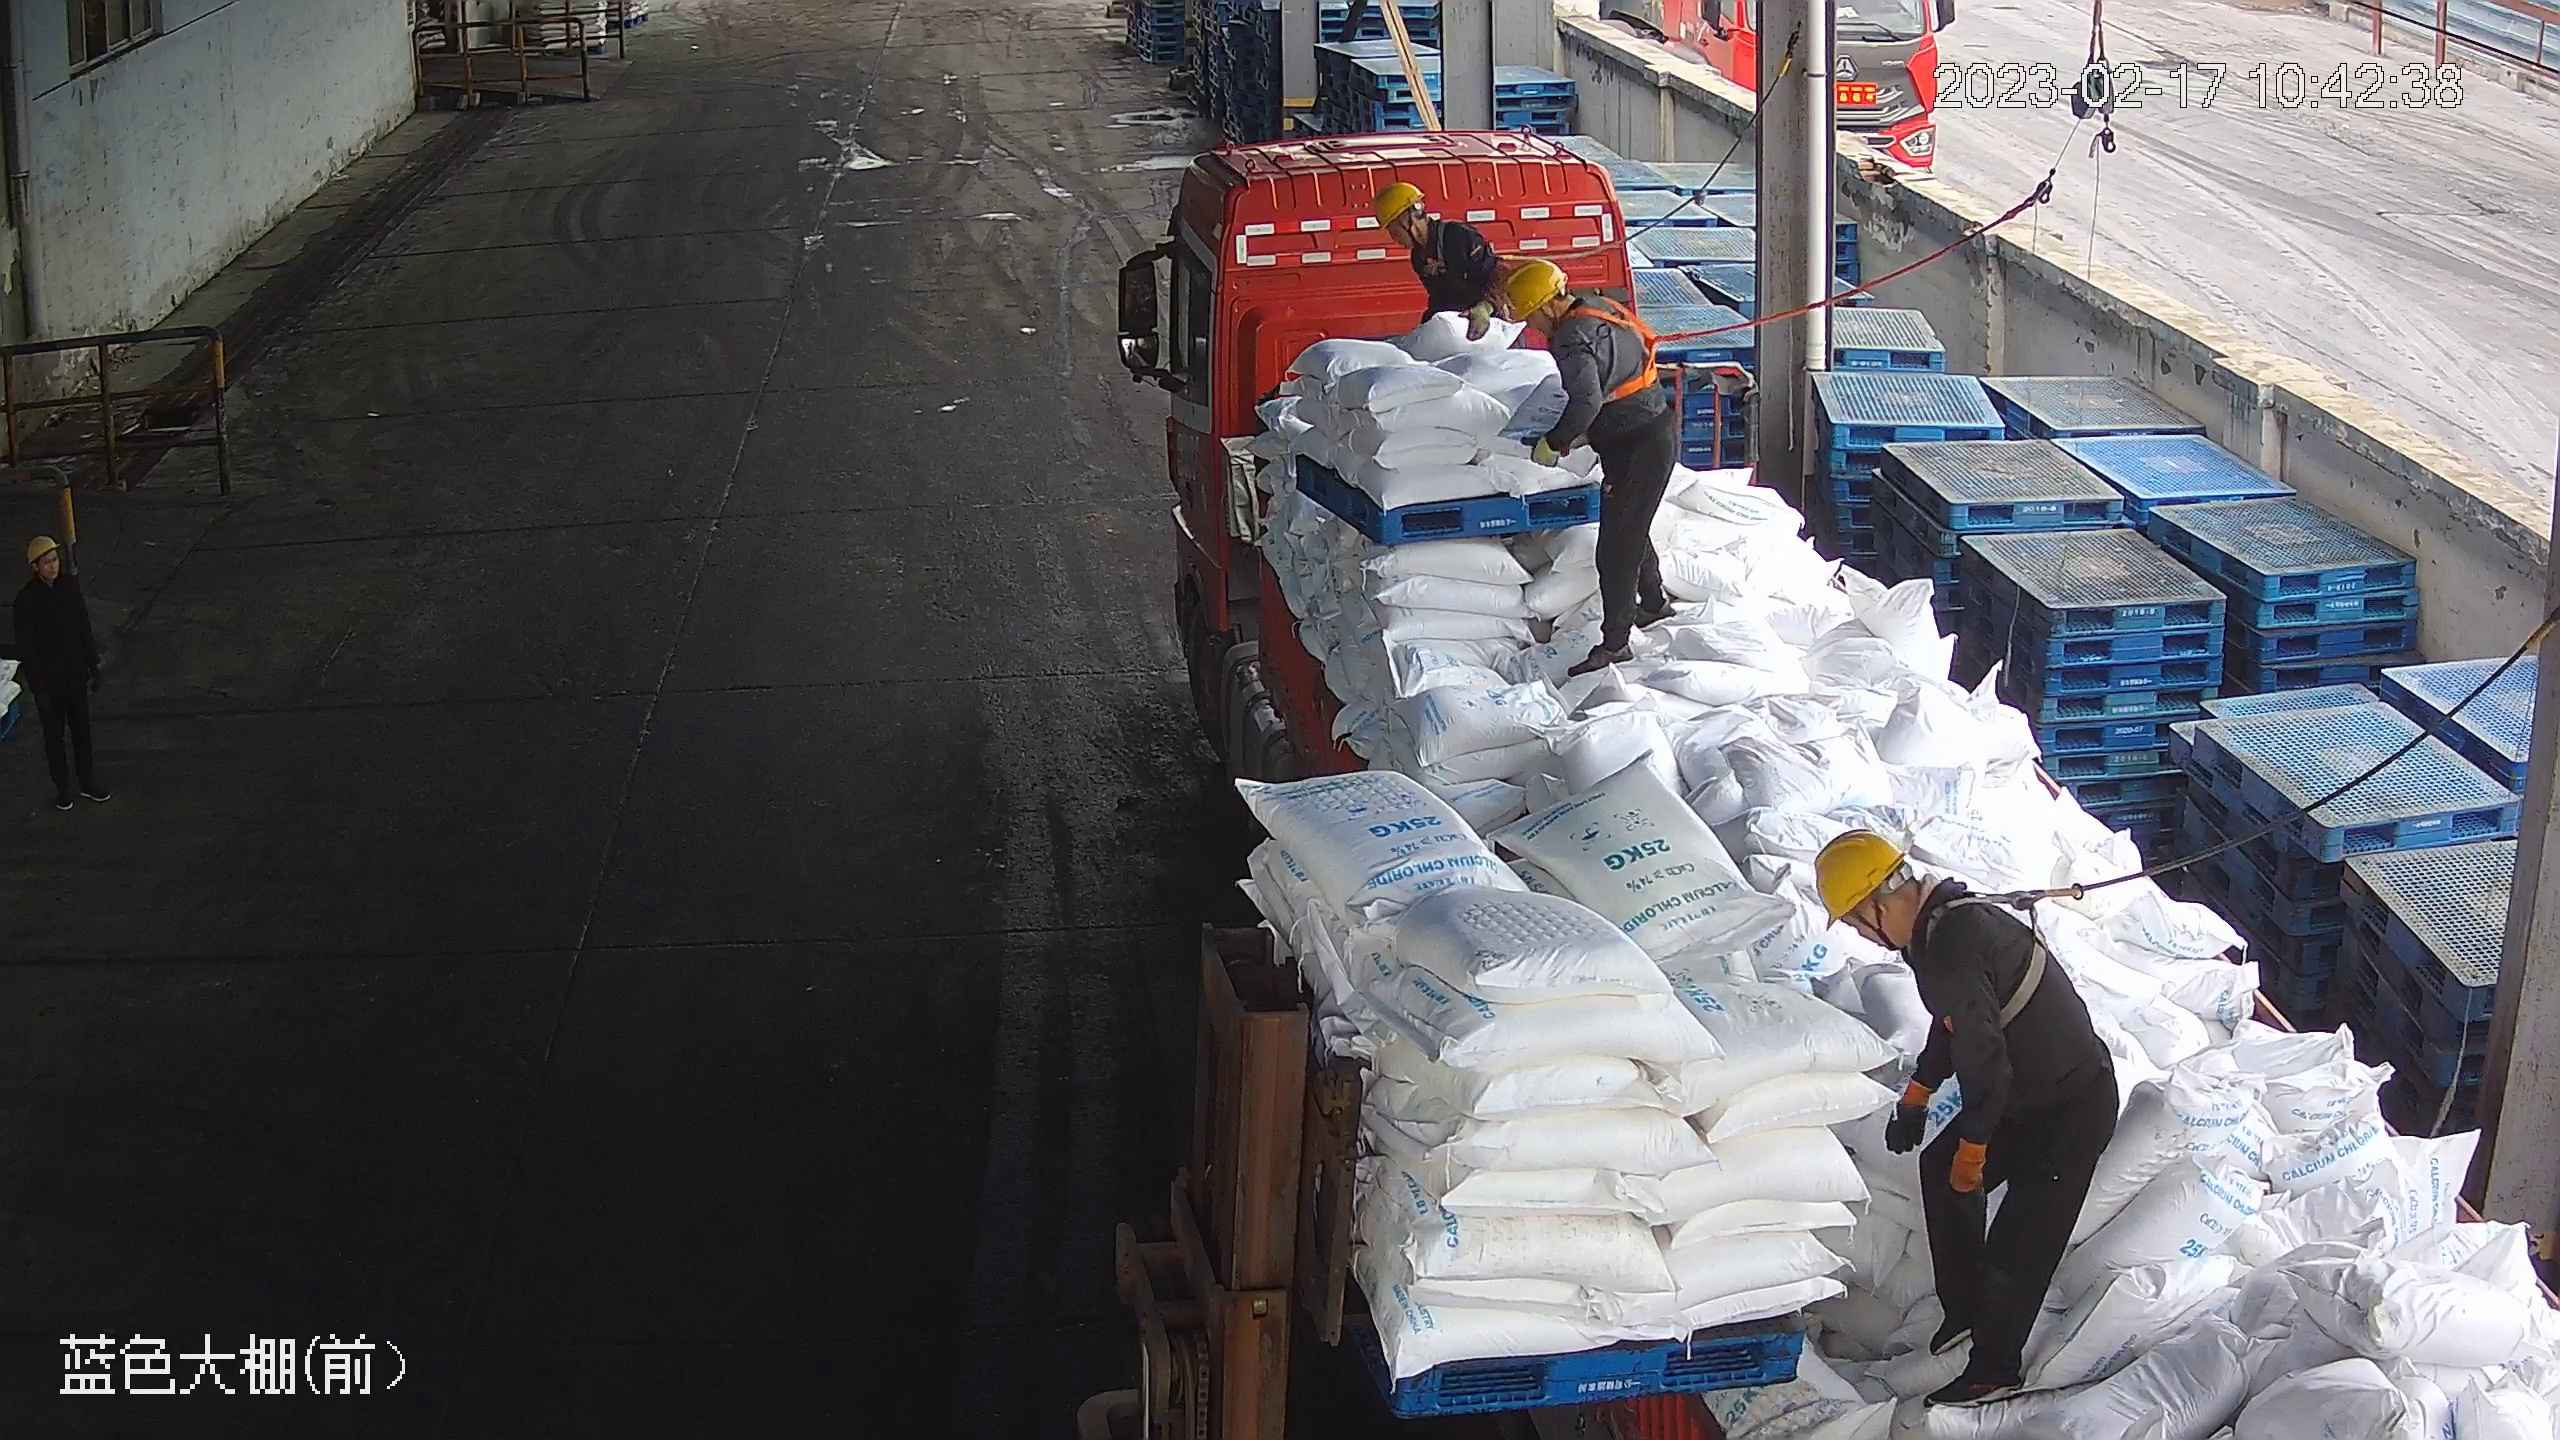belt: (1922, 873, 2083, 1031), (1563, 294, 1680, 407), (1403, 213, 1480, 285)
head: (1812, 823, 2027, 1007), (1501, 255, 1646, 371), (1370, 179, 1489, 275), (10, 533, 89, 618)
helmet: (1810, 825, 1908, 930), (1502, 256, 1567, 322), (1370, 179, 1425, 231), (24, 535, 60, 563)
people: (1807, 823, 2123, 1414), (1503, 249, 1682, 680), (7, 532, 114, 813), (1372, 180, 1504, 333)
truck: (1121, 118, 2553, 1440)
